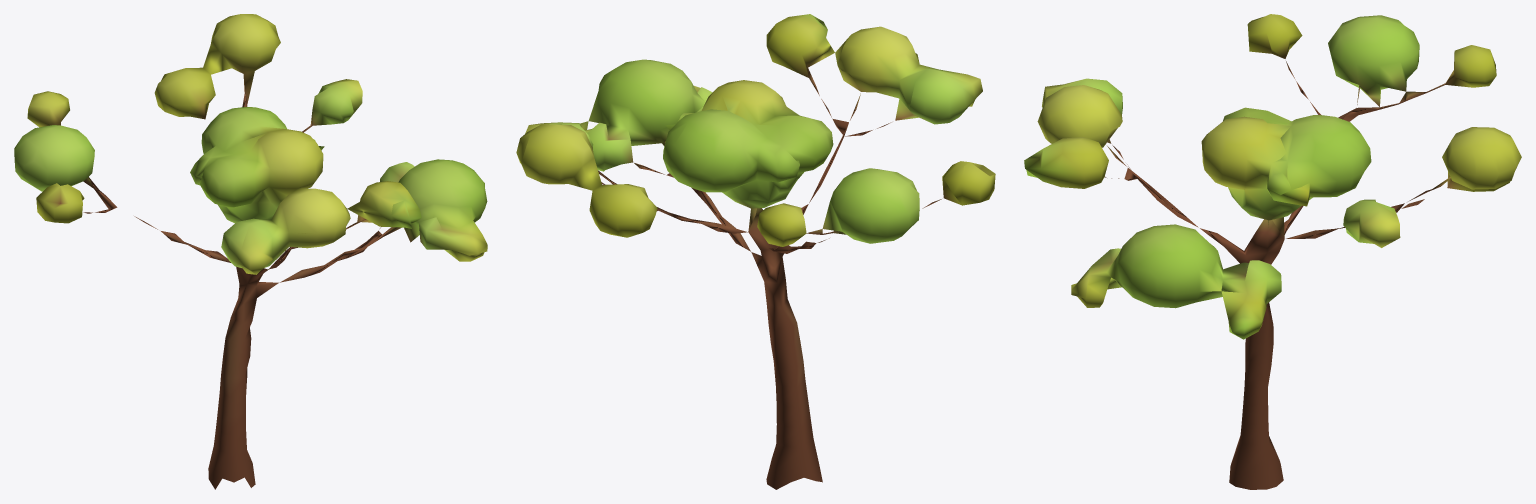
File: acacia-tree-1-lod2.obj
The picture shows the model from 3 angles, left to right: view 1: azimuth 30°, elevation 25°; view 2: azimuth 150°, elevation 25°; view 3: azimuth 270°, elevation 25°; orthographic projection. The views are drawn at different scales.
Visible parts, largest first — view 1: simplified; view 2: simplified; view 3: simplified.
Boxes of the visible parts, box(x1,y1,x2,y2) form: simplified: box(14, 14, 487, 489); simplified: box(516, 14, 995, 489); simplified: box(1024, 14, 1521, 489).
Size of the model in its own units: 593 by 499 by 547.
